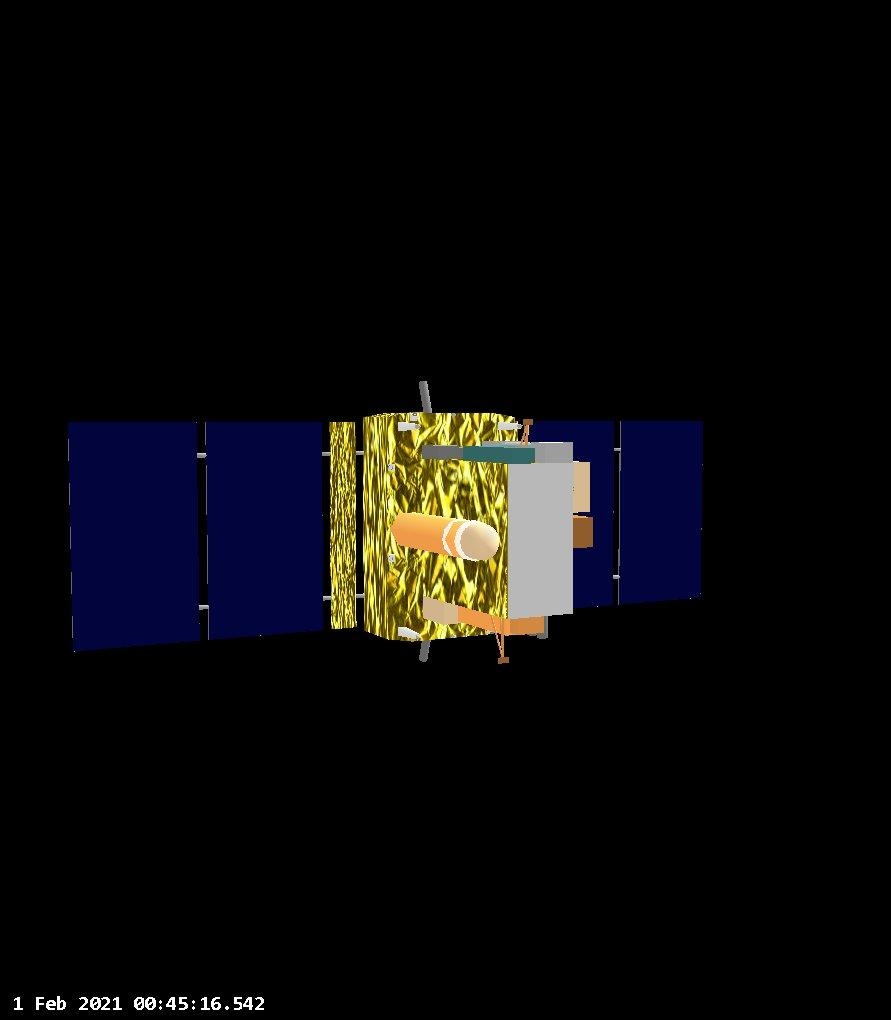antenna: (489, 620, 517, 666)
body: (359, 398, 530, 649)
solar: (57, 408, 336, 656), (518, 408, 709, 615)
thruster: (390, 506, 502, 565), (414, 627, 440, 669), (412, 376, 437, 418)
